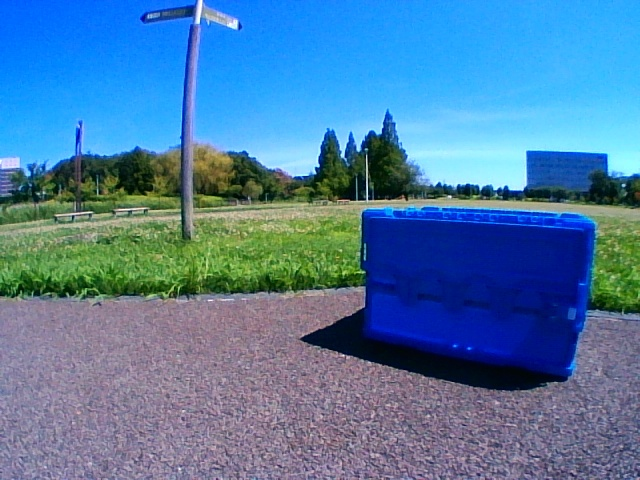blue_box: (361, 205, 594, 377)
